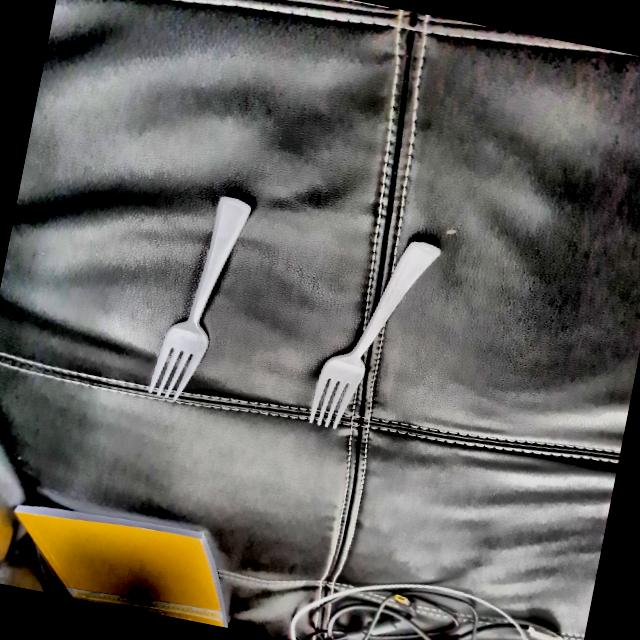plastic utensil: (300, 220, 445, 446), (140, 185, 272, 412)
